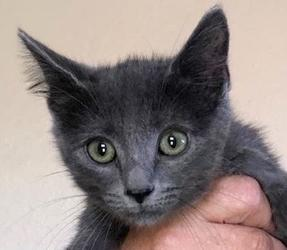rblue: (12, 2, 239, 234)
